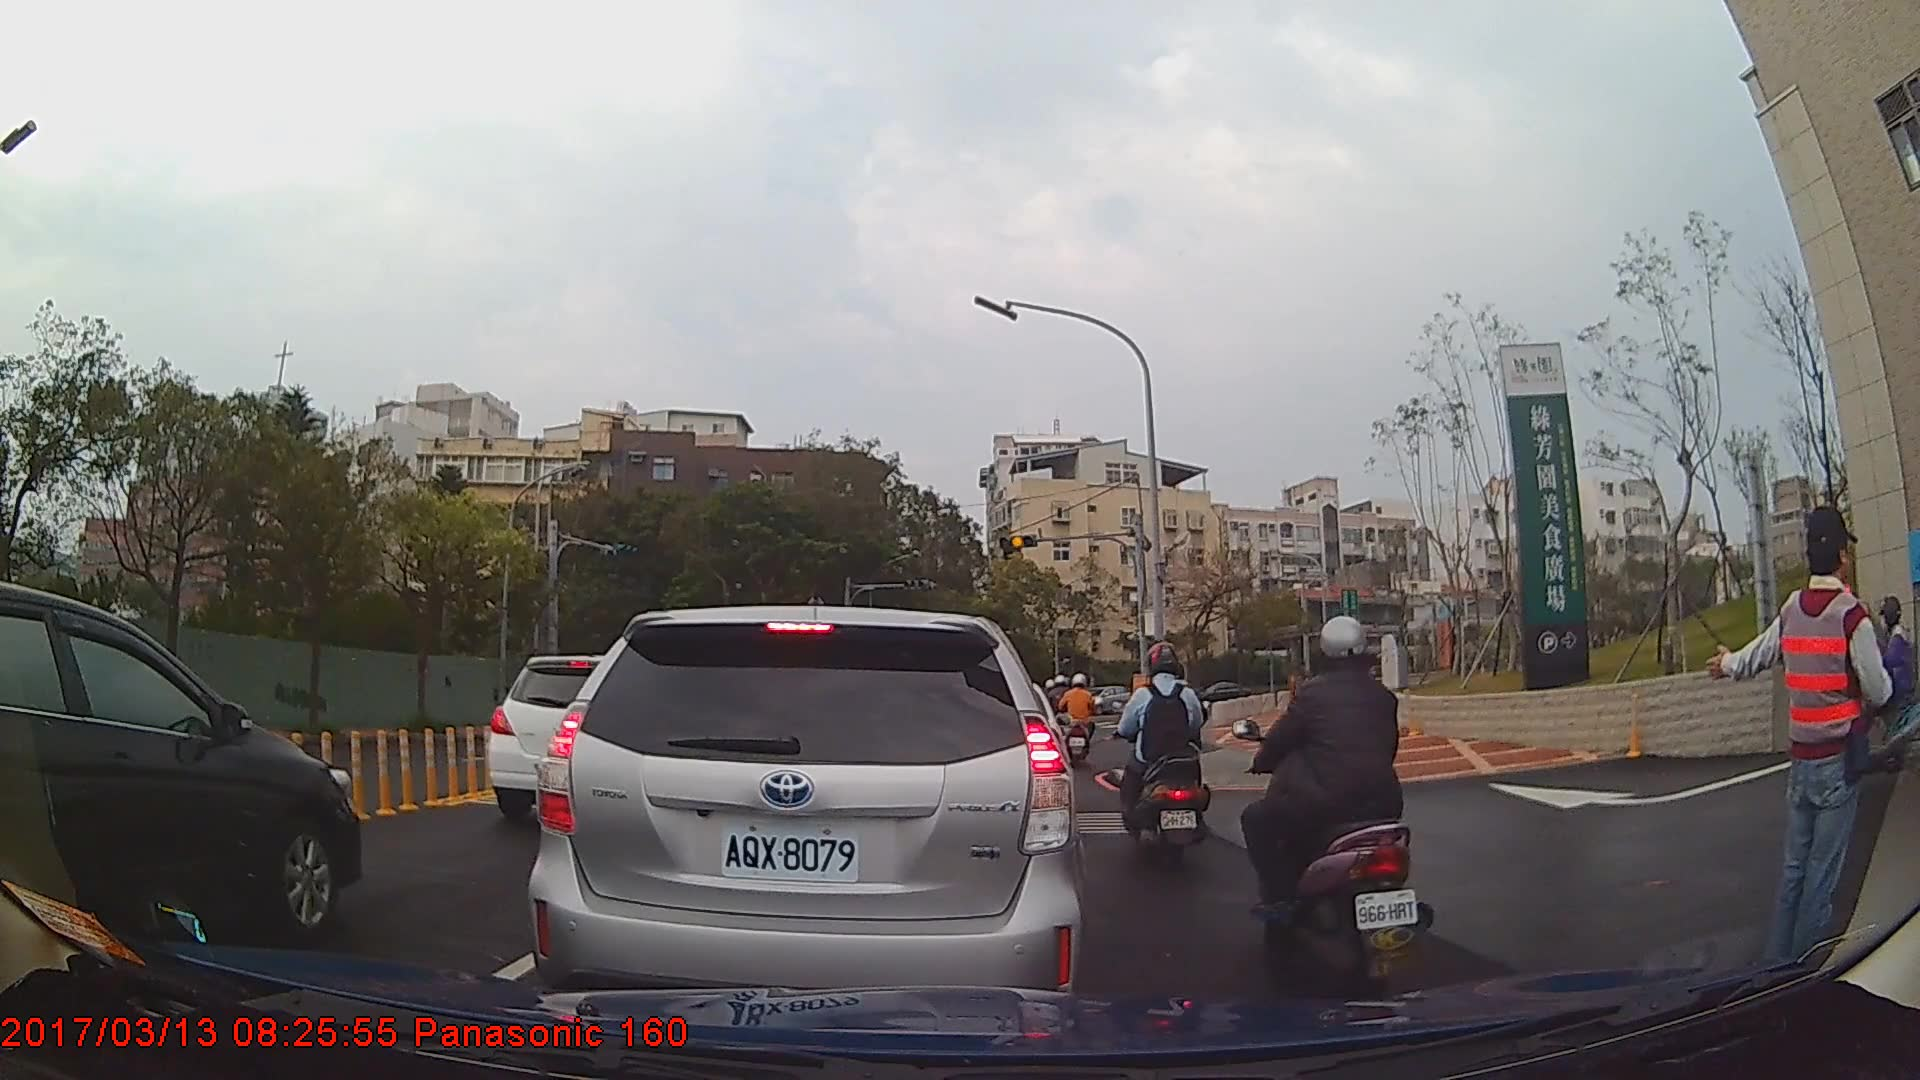pedestrian: (1708, 503, 1904, 1002)
rider: (1242, 612, 1436, 987), (1119, 640, 1208, 867), (1059, 672, 1098, 760)
vehicle: (525, 605, 1087, 1027), (0, 579, 362, 958), (488, 654, 656, 814), (1185, 677, 1254, 713)
